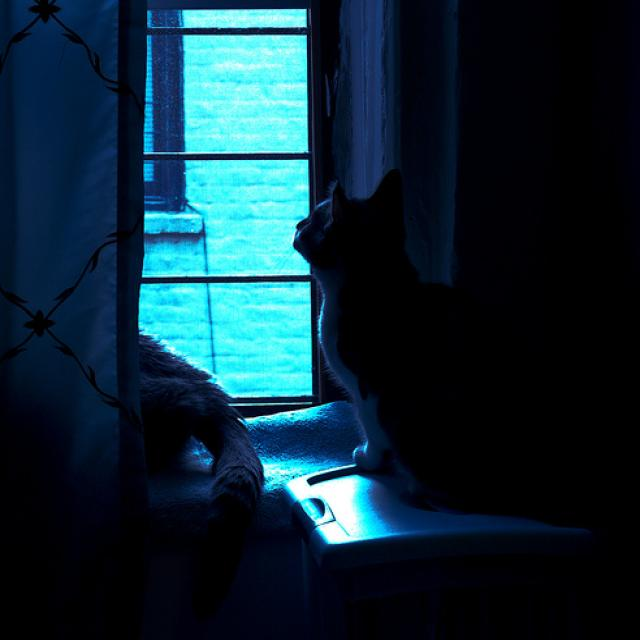Cat: (275, 186, 621, 578), (132, 312, 270, 562)
